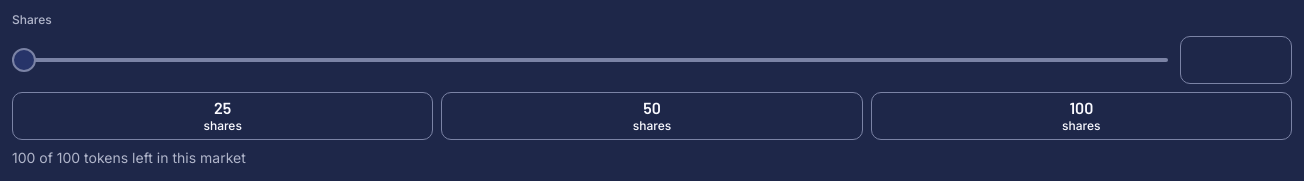
SharesEntry › typing › takes digits alone, removing punctuation and other characters
The width and height of the screenshot is (1304, 181).
Type "1 2,5 tokens-" into the field named "Number of shares" at point(1236, 60), box [1180,36,1292,84]
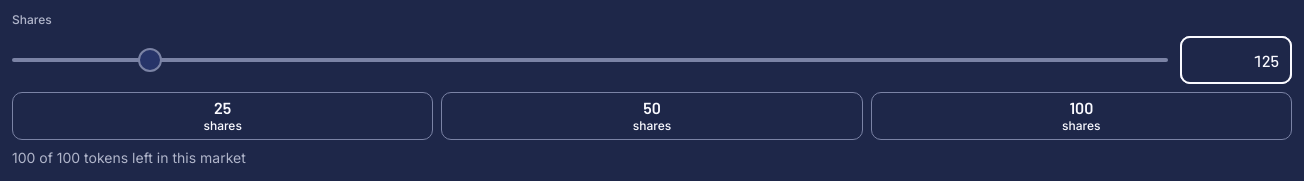
Check: the field named "Number of shares" holds "125", box [1180,36,1292,84]
